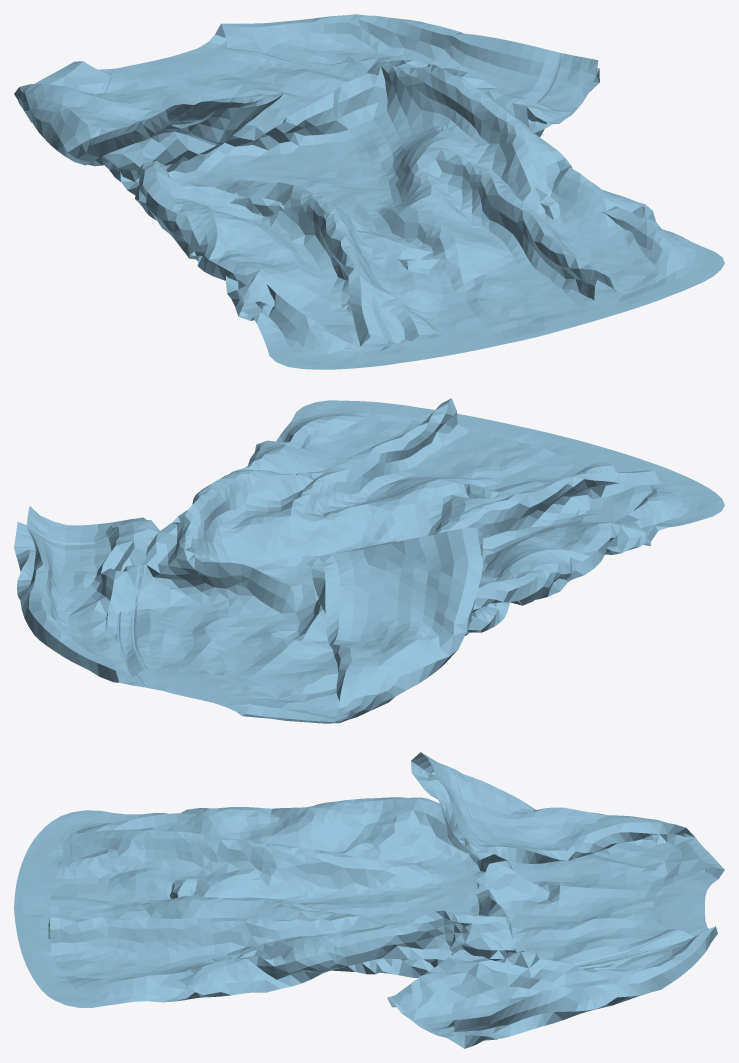
Rendered from frame_19.glb.
The picture shows the model from 3 angles, top to bottom: view 1: azimuth 30°, elevation 25°; view 2: azimuth 150°, elevation 25°; view 3: azimuth 270°, elevation 25°; orthographic projection. The views are drawn at different scales.
Visible parts, largest first — view 1: frame_19.obj; view 2: frame_19.obj; view 3: frame_19.obj.
Part boxes in pixels (x1,y1,x2,y2): frame_19.obj: [14, 14, 724, 369]; frame_19.obj: [14, 398, 724, 723]; frame_19.obj: [14, 752, 724, 1048].
Bounding box in the file's own units: 1.44 × 0.2808 × 1.83.
